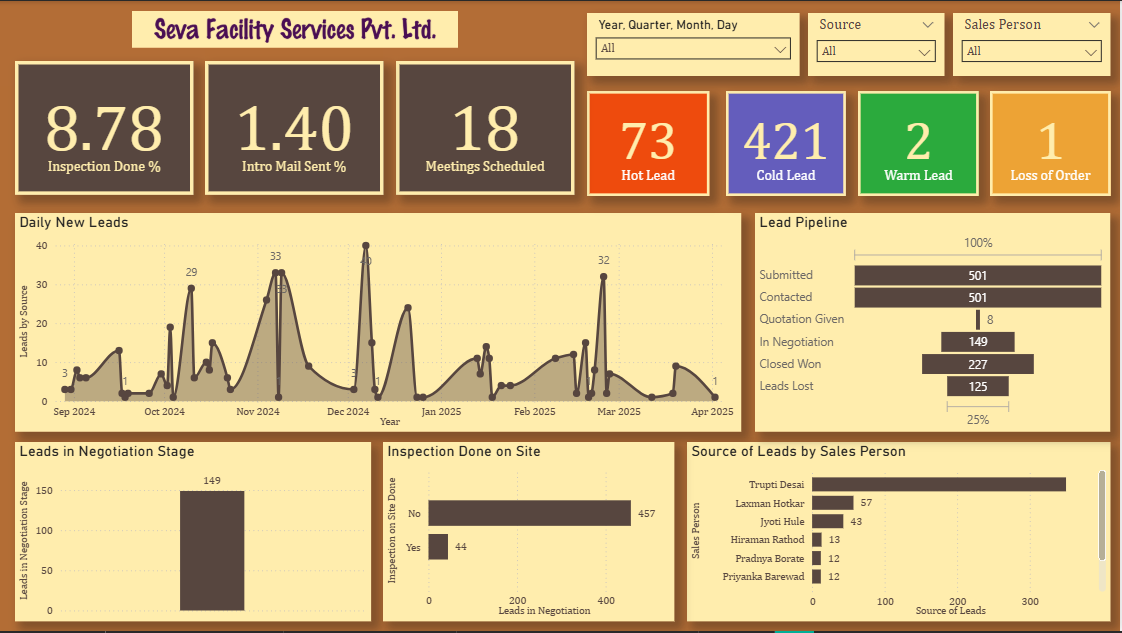

The dashboard page shown, as its layout file describes it:
{"tool":"powerbi","page":{"name":"Operational  Level Follow-up Analysis","canvas":[1280,720],"ordinal":2},"visuals":[{"type":"shape","box":[150.9,11.4,372.6,42.3],"z":0},{"type":"lineChart","title":"Daily New Leads","fields":{"Y":["New.Leads by Source"],"Category":["New.Submission Date.Variation.Date Hierarchy.Year","New.Submission Date.Variation.Date Hierarchy.Month","New.Submission Date.Variation.Date Hierarchy.Day"]},"box":[17.5,242.5,830,250],"z":1000},{"type":"card","fields":{"Values":["New.LeadsByStatus"]},"box":[670.4,102.5,139.5,119.8],"z":2000},{"type":"card","fields":{"Values":["New.Cold Lead"]},"box":[829.6,102.5,137,119.8],"z":3000},{"type":"card","fields":{"Values":["New.Warm Lead"]},"box":[980.2,102.5,138.3,119.8],"z":4000},{"type":"card","fields":{"Values":["New.Meetings Scheduled"]},"box":[453.1,69.1,203.7,153.1],"z":5000},{"type":"card","fields":{"Values":["New.Inspection Done %"]},"box":[17.3,69.1,203.7,153.1],"z":6000},{"type":"card","fields":{"Values":["New.Intro Mail Sent %"]},"box":[234.6,69.1,203.7,153.1],"z":7000},{"type":"columnChart","fields":{"Y":["New.Leads in Negotiation Stage"]},"box":[17.1,504,406.9,204.6],"z":8000},{"type":"clusteredBarChart","fields":{"Y":["CountNonNull(New.SOURCE OF LEAD)"],"Category":["New.Sales Person"]},"box":[785,503.8,483.8,205],"z":9000},{"type":"image","box":[168,13.7,337.1,38.9],"z":10000},{"type":"barChart","title":"Inspection Done on Site","fields":{"Category":["New.INSPECTION ON SITE DONE?"],"Y":["New.Leads in Negotiation"]},"box":[437.7,504,332.6,204.6],"z":11000},{"type":"slicer","fields":{"Values":["New.ENQUIRY DATE.Variation.Date Hierarchy.Year","New.ENQUIRY DATE.Variation.Date Hierarchy.Quarter","New.ENQUIRY DATE.Variation.Date Hierarchy.Month","New.ENQUIRY DATE.Variation.Date Hierarchy.Day"]},"box":[670.4,13.6,243.2,71.6],"z":12000},{"type":"slicer","fields":{"Values":["New.SOURCE OF LEAD"]},"box":[923.5,13.6,155.6,71.6],"z":13000},{"type":"slicer","fields":{"Values":["New.Sales Person"]},"box":[1088.9,13.6,180.2,71.6],"z":14000},{"type":"card","fields":{"Values":["New.Loss of Order"]},"box":[1130.9,102.5,138.3,119.8],"z":15000},{"type":"funnel","title":"Lead Pipeline","fields":{"Y":["New.Leads Submitted","New.Leads Contacted","New.Leads Quoted","New.Leads in Negotiation Stage","New.Leads Won","New.Leads Lost"]},"box":[862.9,242.3,405.7,250.3],"z":16000}]}

Visuals, with their boxes in screenshot pixels (x1, y1, x2, y2), scaled from the page's 1280x720 canvas onto the 1122x633 screenshot:
shape: 132:10:459:47
"Daily New Leads" lineChart: 15:213:743:433
card - New.LeadsByStatus: 588:90:710:195
card - New.Cold Lead: 727:90:847:195
card - New.Warm Lead: 859:90:980:195
card - New.Meetings Scheduled: 397:61:576:195
card - New.Inspection Done %: 15:61:194:195
card - New.Intro Mail Sent %: 206:61:384:195
columnChart - New.Leads in Negotiation Stage: 15:443:372:623
clusteredBarChart - CountNonNull(New.SOURCE OF LEAD) x New.Sales Person: 688:443:1112:623
image: 147:12:443:46
"Inspection Done on Site" barChart: 384:443:675:623
slicer - New.ENQUIRY DATE.Variation.Date Hierarchy.Year x New.ENQUIRY DATE.Variation.Date Hierarchy.Quarter: 588:12:801:75
slicer - New.SOURCE OF LEAD: 810:12:946:75
slicer - New.Sales Person: 954:12:1112:75
card - New.Loss of Order: 991:90:1113:195
"Lead Pipeline" funnel: 756:213:1112:433
